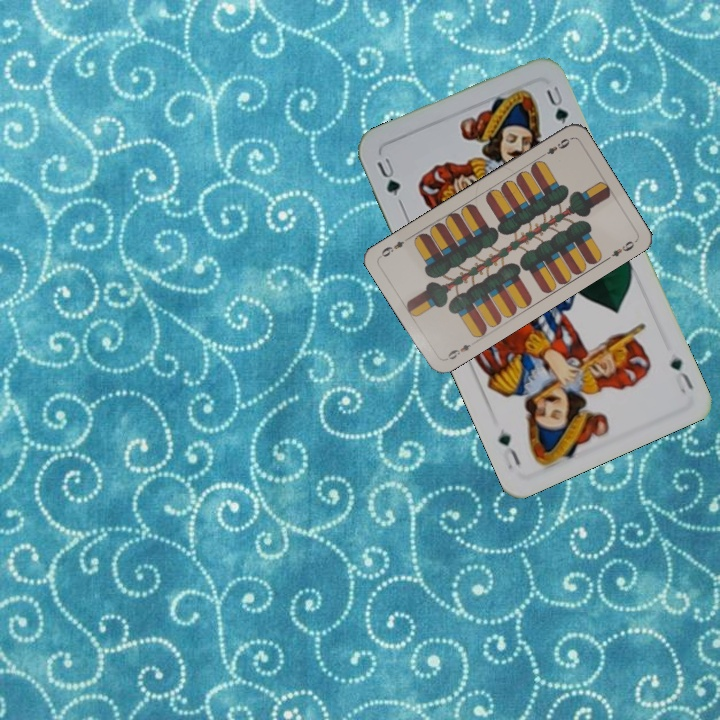E9: (441, 337, 478, 363), (537, 134, 572, 160)
GU: (372, 153, 403, 199), (666, 352, 697, 396)
